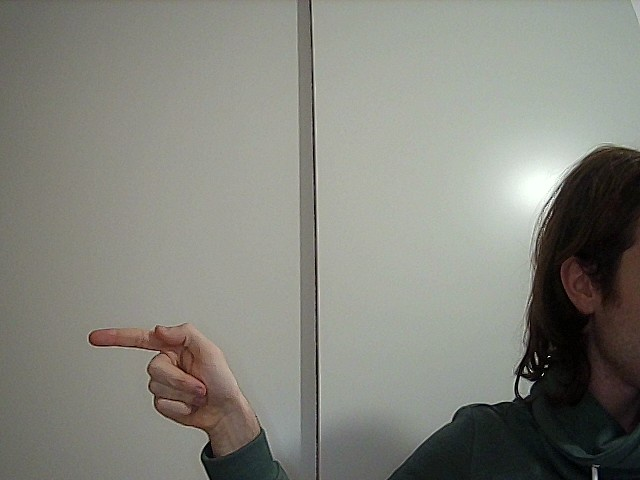g: (82, 289, 266, 464)
